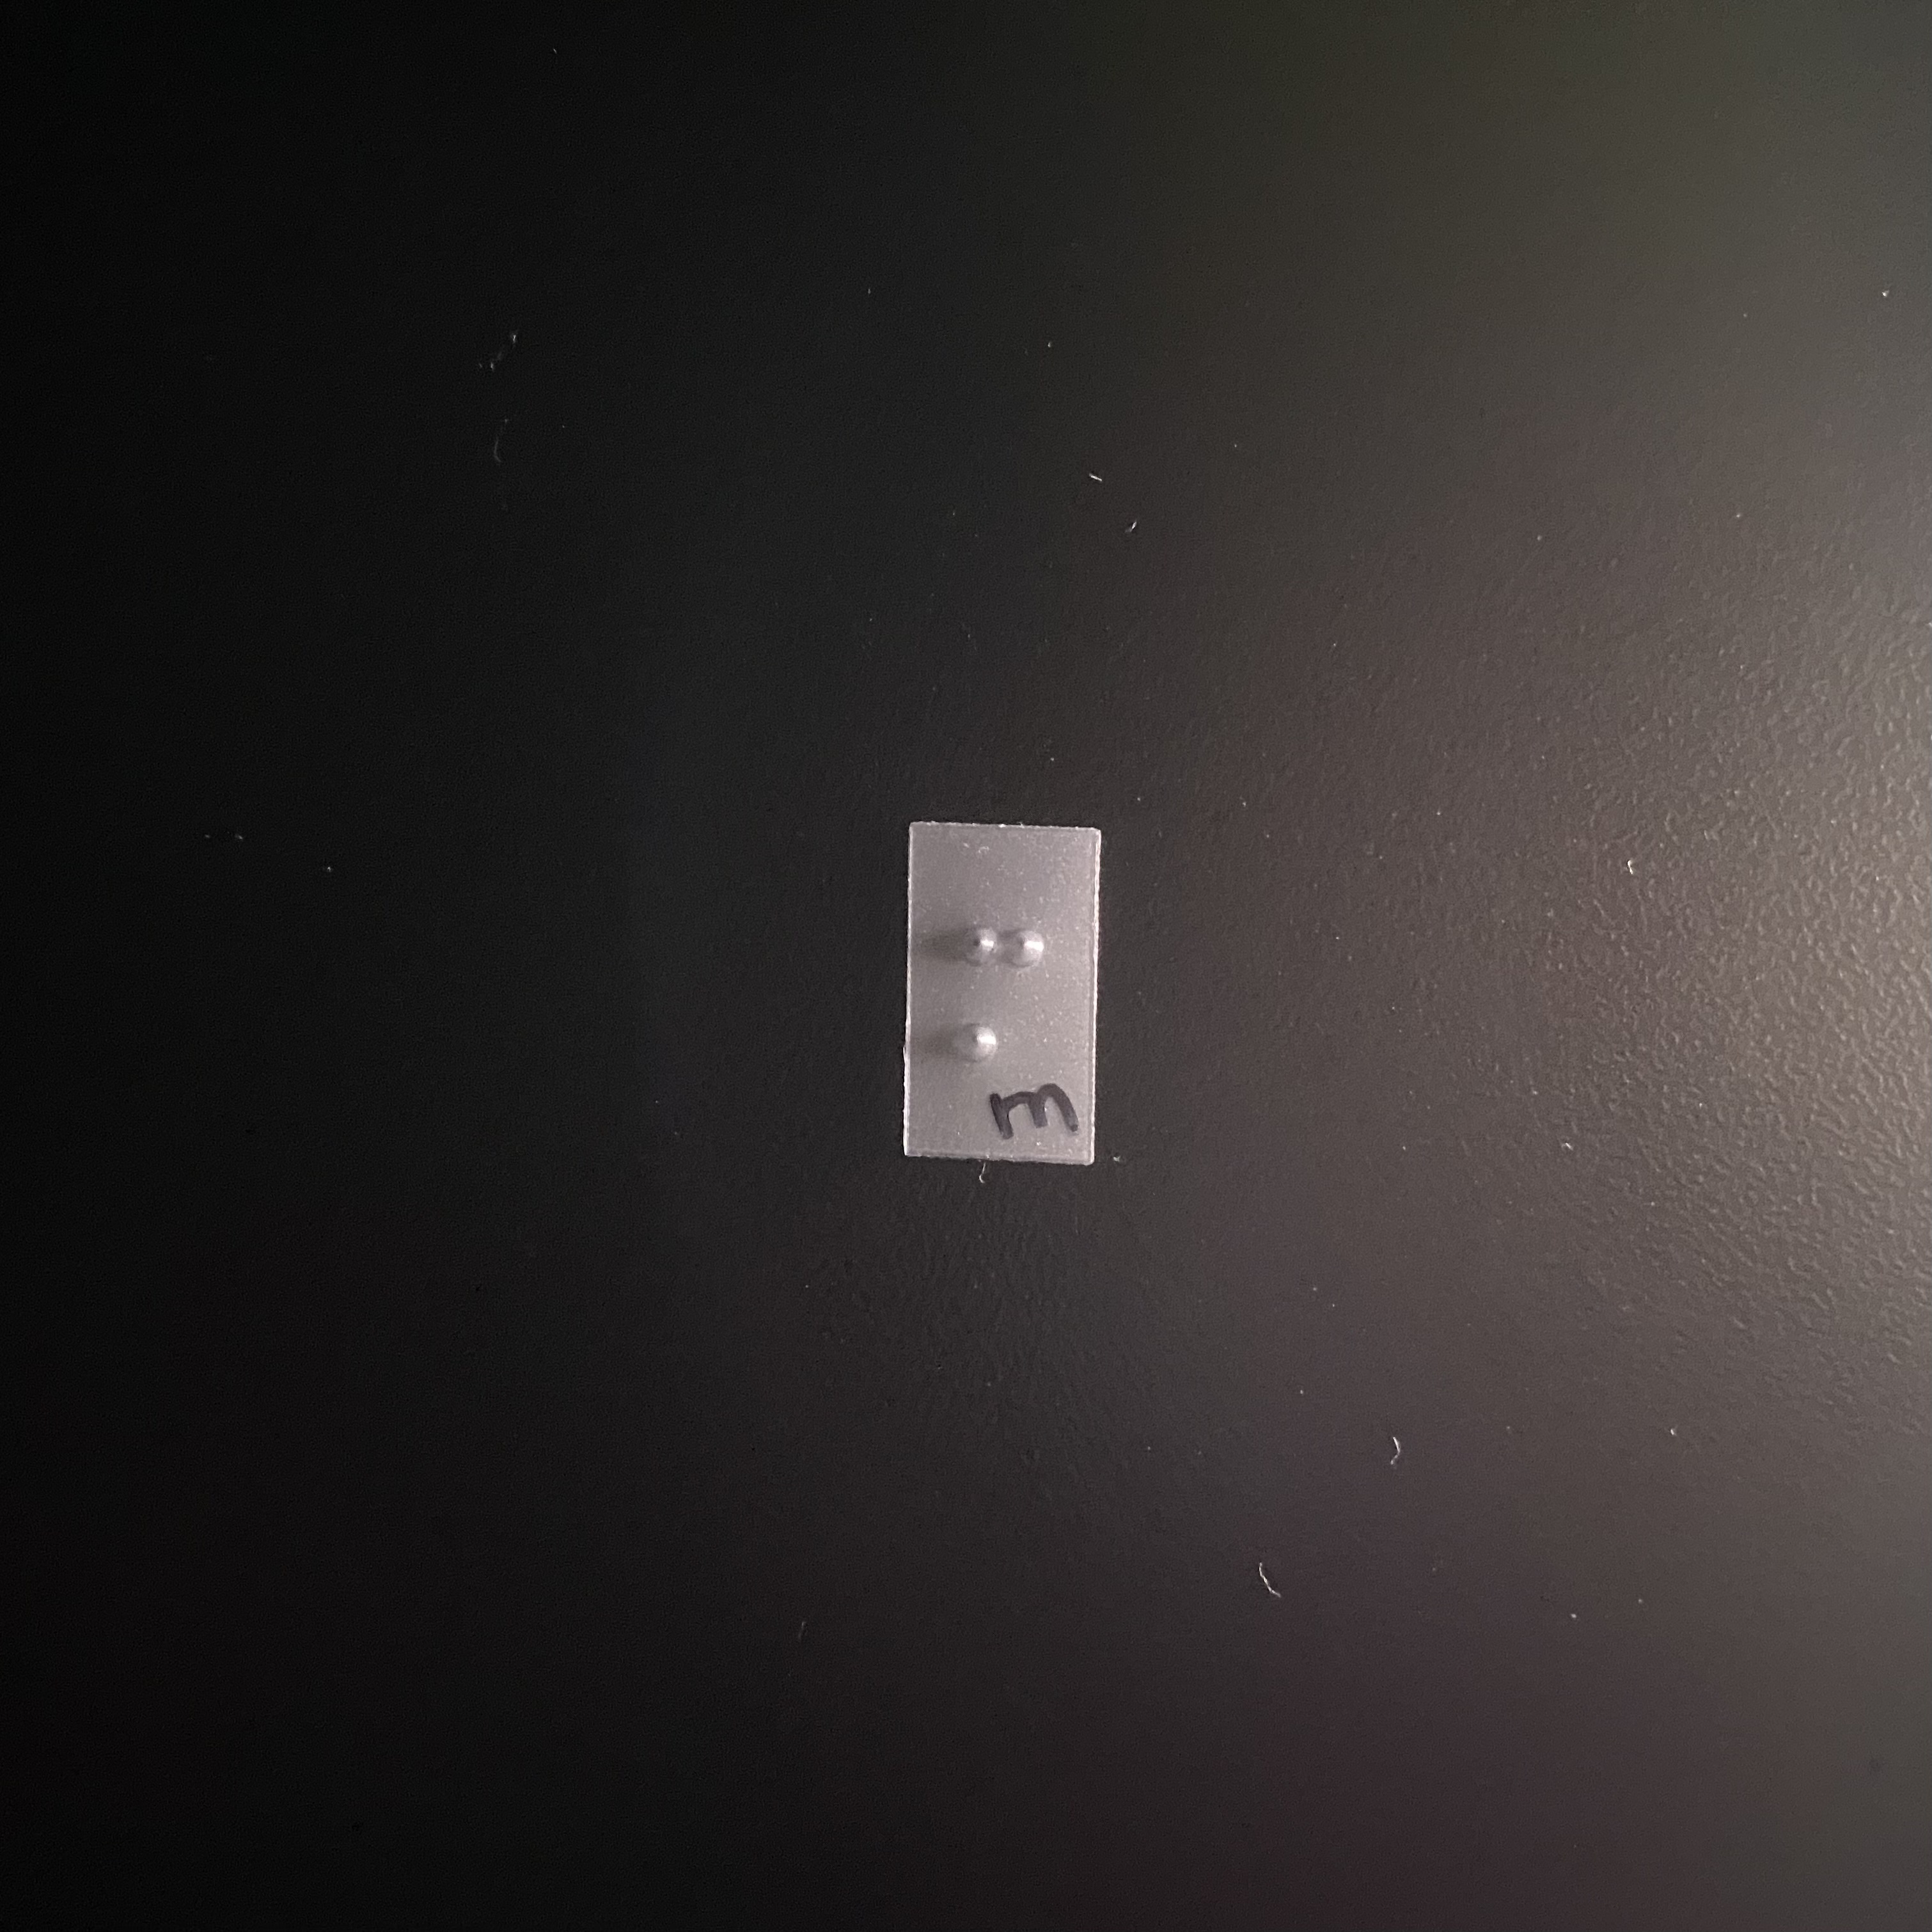m: (935, 909, 1054, 1074)
